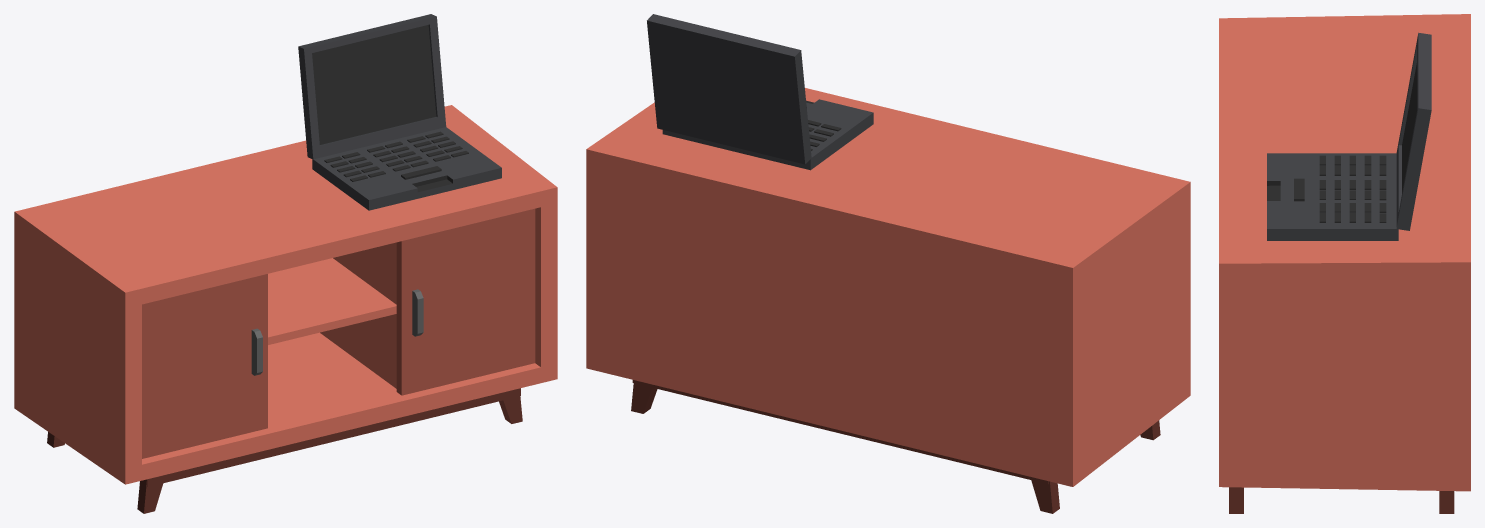
File: Laptop_TV drawer.fbx
3 renders of one model, left to right at view 1: azimuth 30°, elevation 25°; view 2: azimuth 150°, elevation 25°; view 3: azimuth 270°, elevation 25°, orthographic. The views are drawn at different scales.
Parts seen in each view (by area): view 1: Drawer, Laptop, Door1, Door; view 2: Drawer, Laptop; view 3: Drawer, Laptop.
Boxes of the visible parts, x1,y1,x2,y2 form: Drawer: (14,105,557,513); Laptop: (298,14,501,210); Door1: (396,208,535,395); Door: (142,274,267,458); Drawer: (586,88,1190,513); Laptop: (647,14,873,170); Drawer: (1219,14,1470,513); Laptop: (1267,32,1431,240).
Size of the model in its own units: 4.35 by 3.3 by 1.87.
